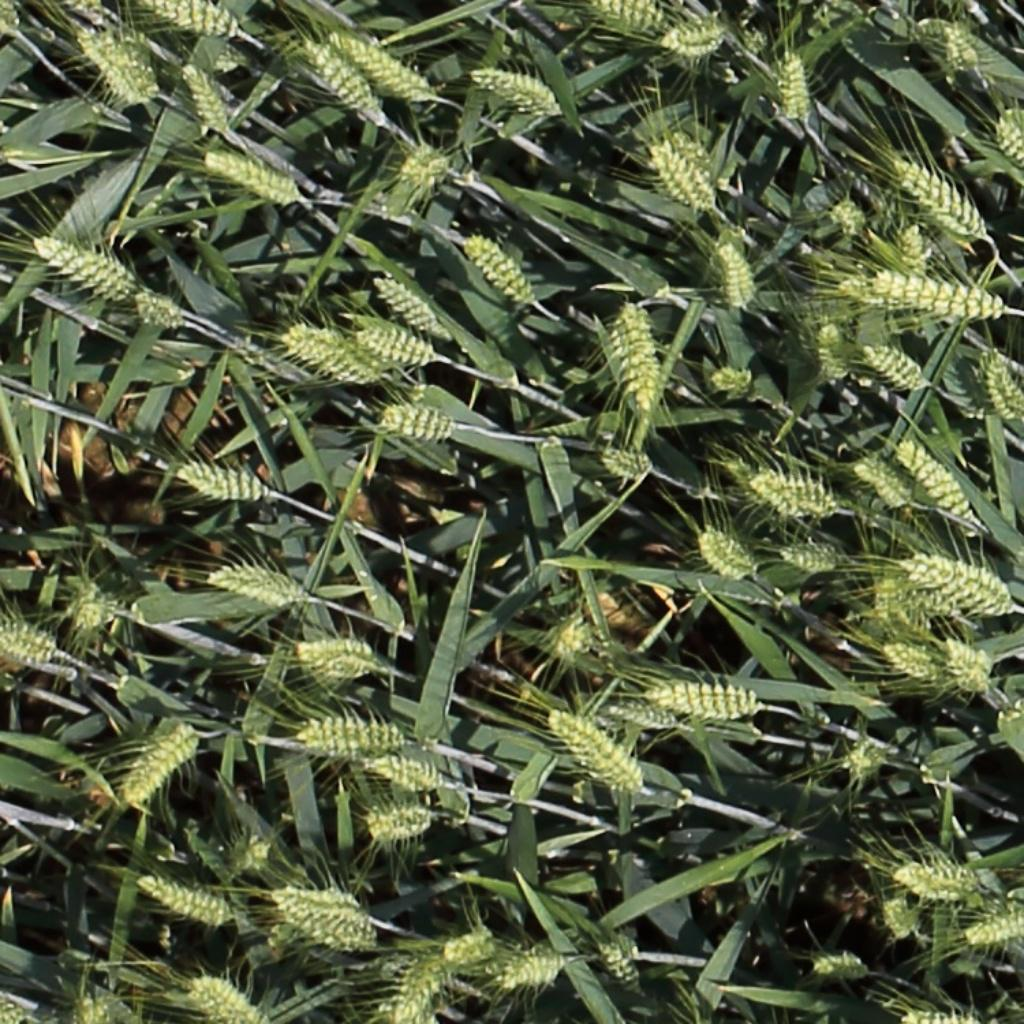0-0: (552, 709, 641, 797), (896, 553, 1010, 618), (300, 35, 385, 121), (894, 155, 987, 233), (897, 436, 977, 522), (601, 292, 658, 412), (277, 319, 382, 383), (393, 128, 482, 202), (333, 30, 434, 95), (122, 723, 197, 806), (34, 234, 132, 297), (836, 262, 946, 318), (739, 448, 828, 513), (862, 275, 1004, 315), (464, 232, 539, 307), (76, 30, 152, 101), (380, 950, 451, 1024), (372, 273, 451, 338), (655, 132, 723, 206), (663, 6, 757, 58), (274, 898, 371, 948), (177, 54, 234, 139), (206, 150, 300, 200), (857, 573, 940, 629), (204, 559, 303, 604), (371, 386, 456, 438), (137, 877, 230, 924), (293, 711, 402, 749), (916, 18, 983, 76), (475, 68, 561, 113), (349, 316, 435, 361), (367, 794, 445, 843), (593, 932, 649, 999), (650, 682, 759, 715), (981, 345, 1024, 427), (368, 748, 448, 790), (941, 635, 996, 694), (895, 855, 977, 894), (62, 579, 127, 628), (147, 1, 240, 35), (701, 528, 760, 581), (880, 643, 951, 687), (189, 976, 256, 1022), (715, 231, 753, 312), (856, 458, 916, 509), (178, 466, 270, 498), (864, 344, 929, 389), (1, 610, 58, 659), (841, 736, 893, 782), (783, 46, 811, 128), (991, 109, 1024, 177), (819, 316, 851, 386), (220, 831, 289, 862), (547, 616, 599, 656), (132, 290, 187, 327), (902, 215, 931, 282), (494, 958, 565, 985), (884, 894, 922, 943), (815, 941, 869, 974), (832, 193, 869, 241), (709, 360, 758, 396), (606, 705, 679, 729), (965, 916, 1024, 944), (782, 547, 857, 569), (77, 988, 120, 1024), (602, 1, 666, 25), (604, 450, 655, 476), (443, 937, 496, 962), (0, 0, 24, 32), (0, 0, 15, 35), (0, 1000, 21, 1022)
